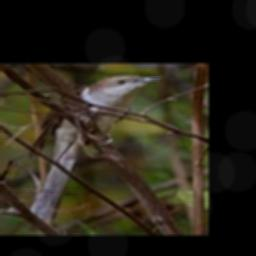Cuckoo: (26, 75, 159, 217)
